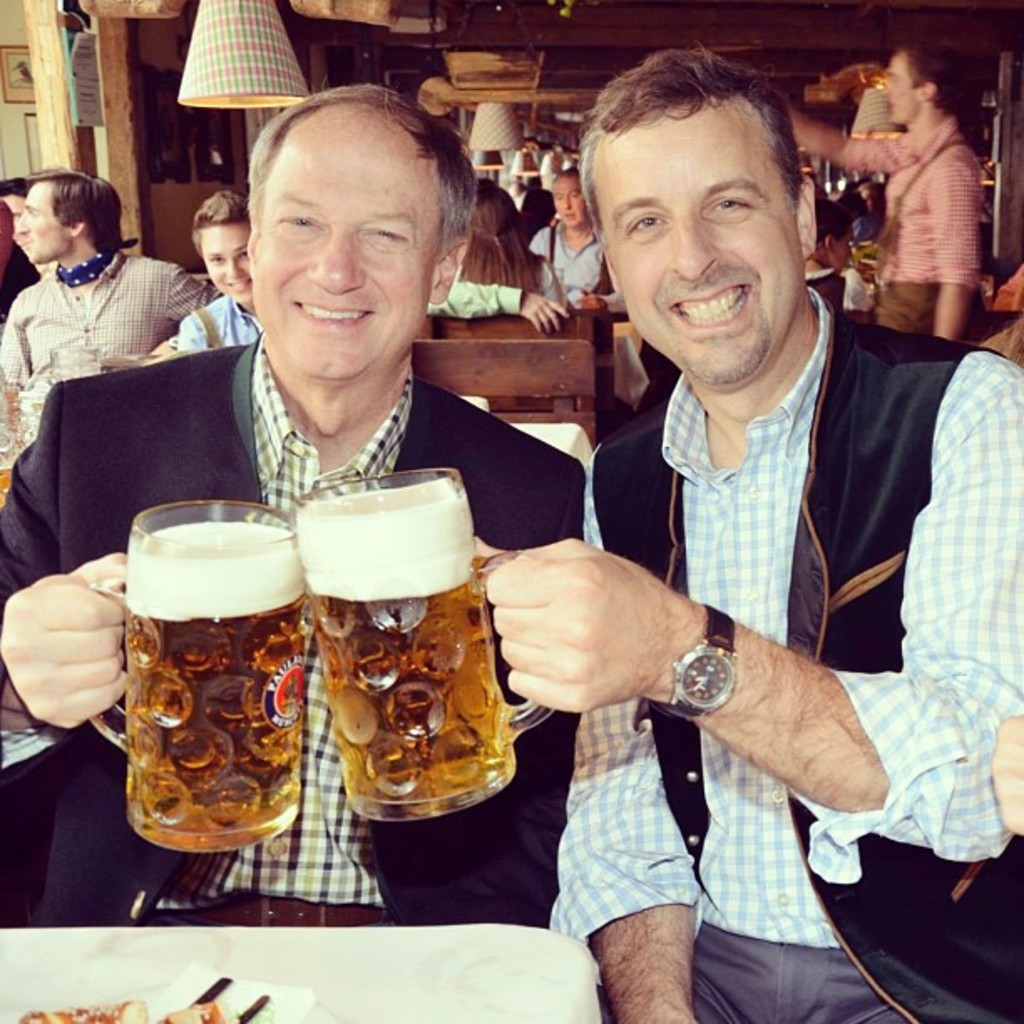Beer: (301, 490, 512, 804), (112, 513, 297, 856)
